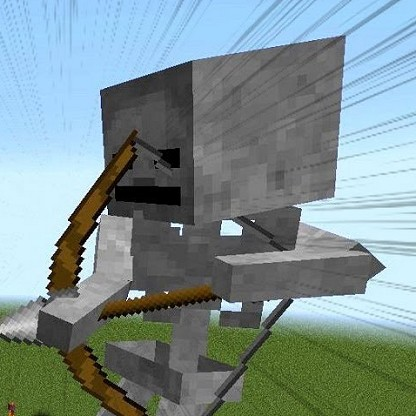skeleton: (87, 33, 354, 329)
